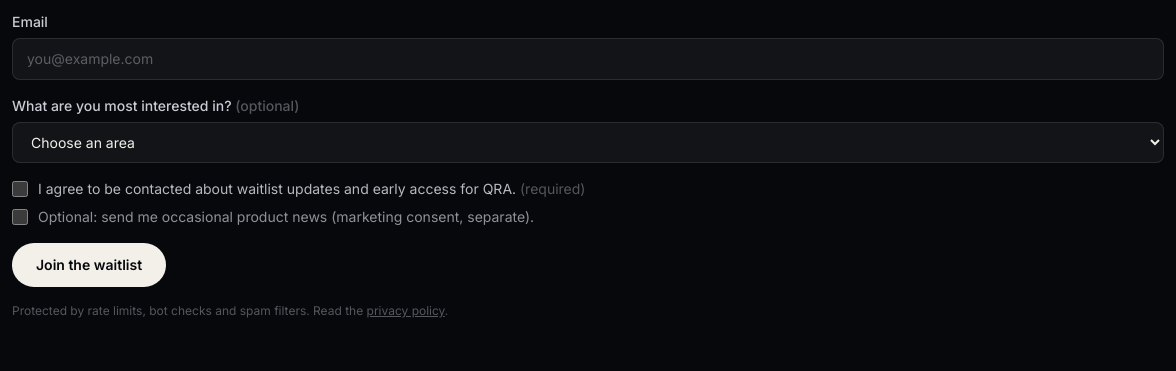
Test case: WaitlistForm › shows backend error messages from the envelope
Type "x@mailinator.com" into the field with test id "waitlist-email" at point(588, 59), box [12,38,1164,80]
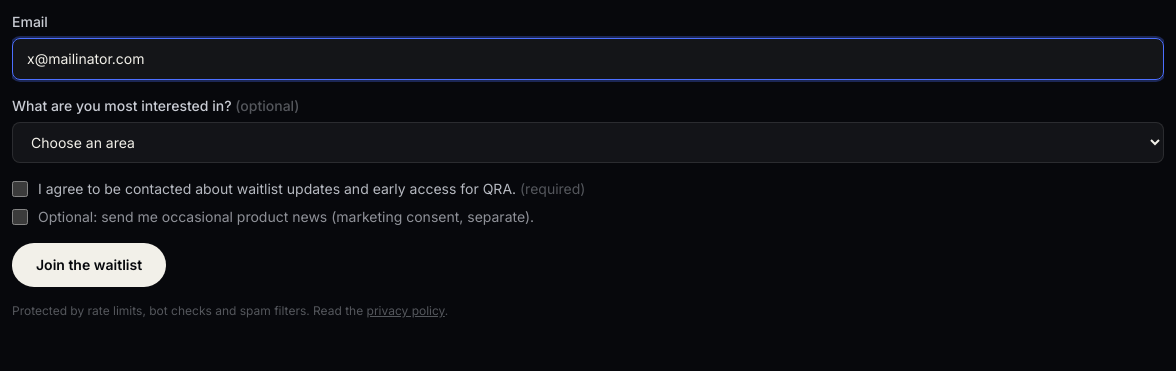
Click the checkbox with test id "waitlist-consent" at point(20, 189), box [12,181,28,197]
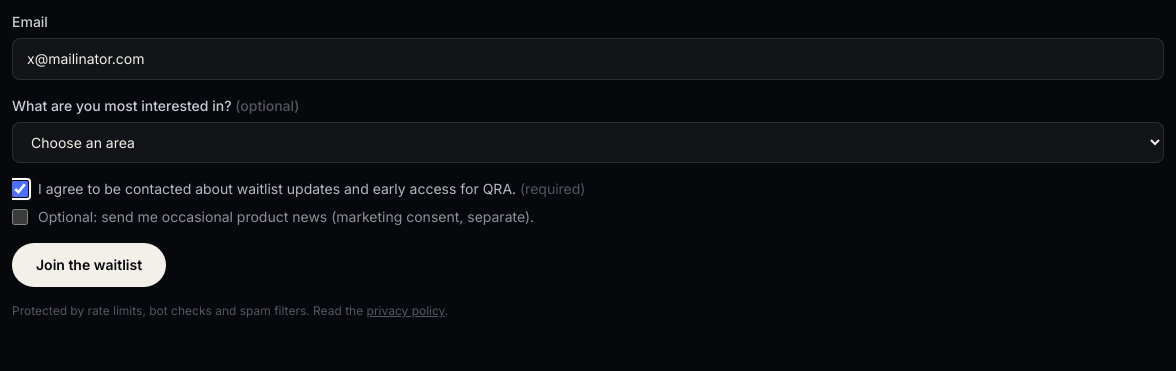
Click the button with test id "waitlist-submit" at point(89, 265), box [12,243,166,287]
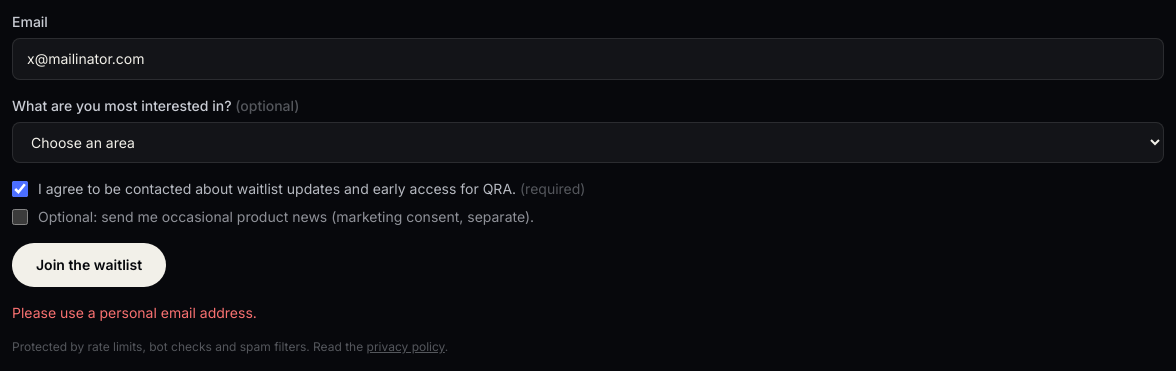
Check: the message with test id "waitlist-error" shows "personal email", box [12,304,257,321]
